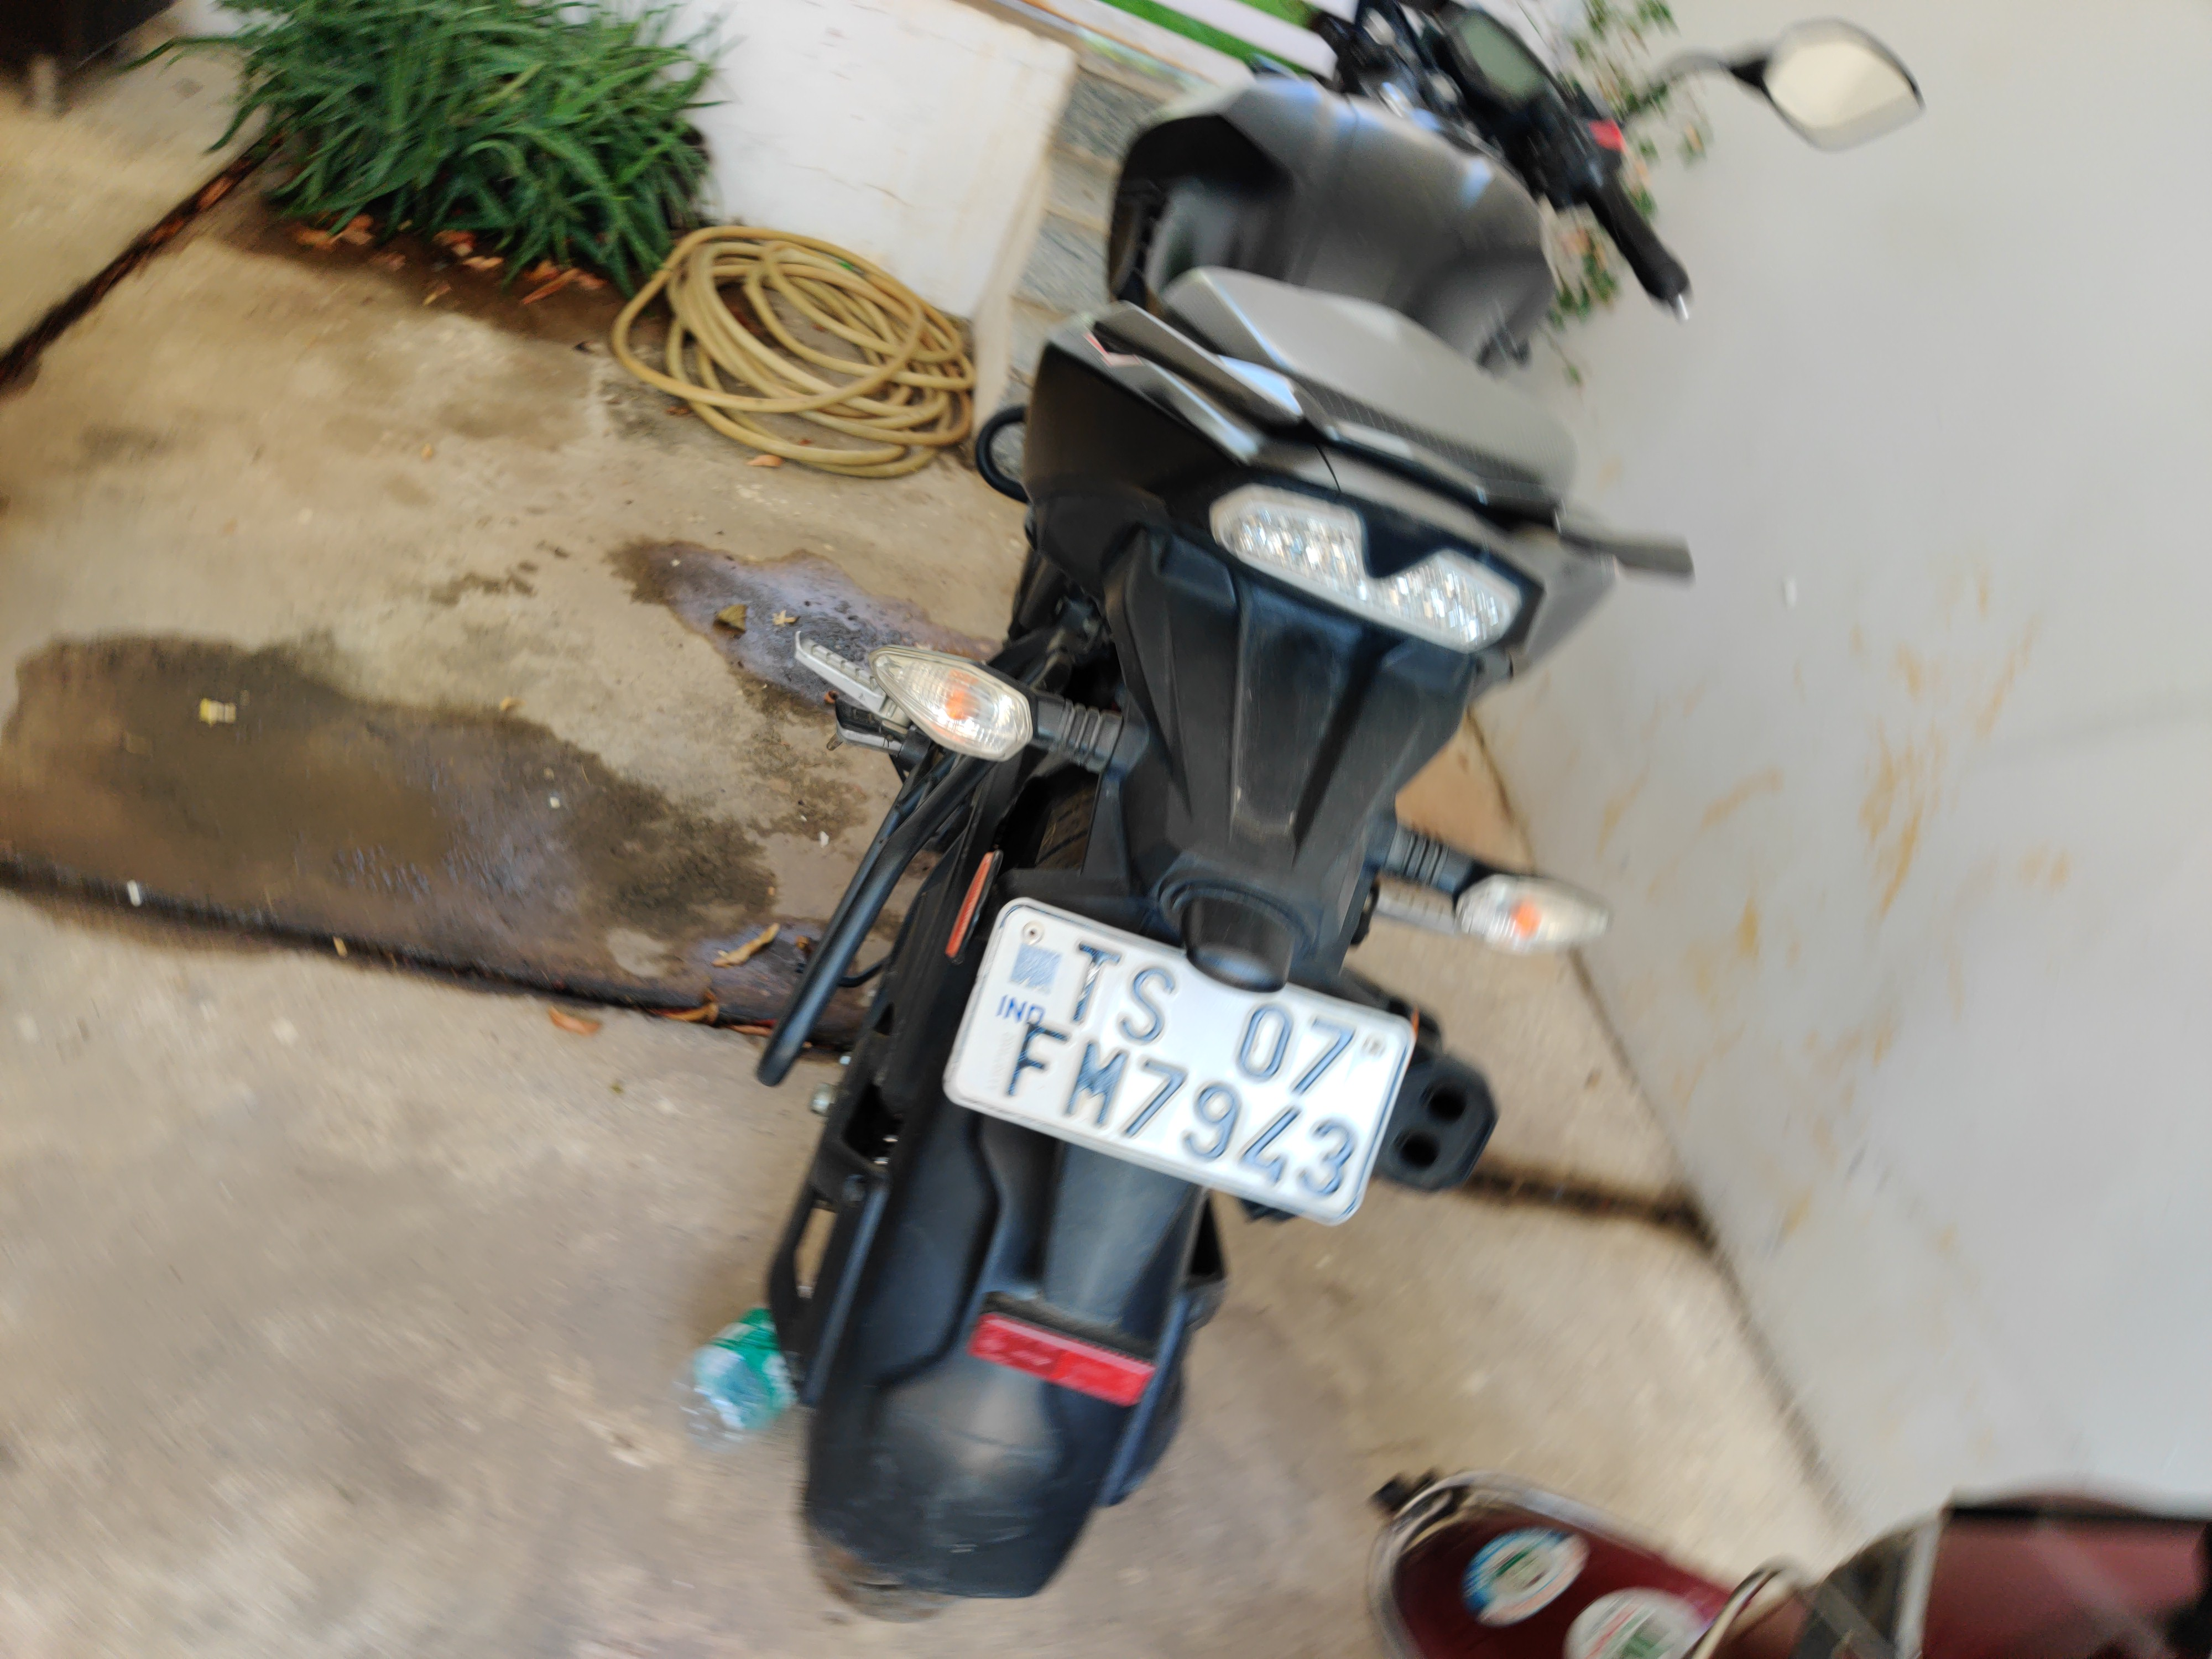plate: (931, 886, 1428, 1237)
